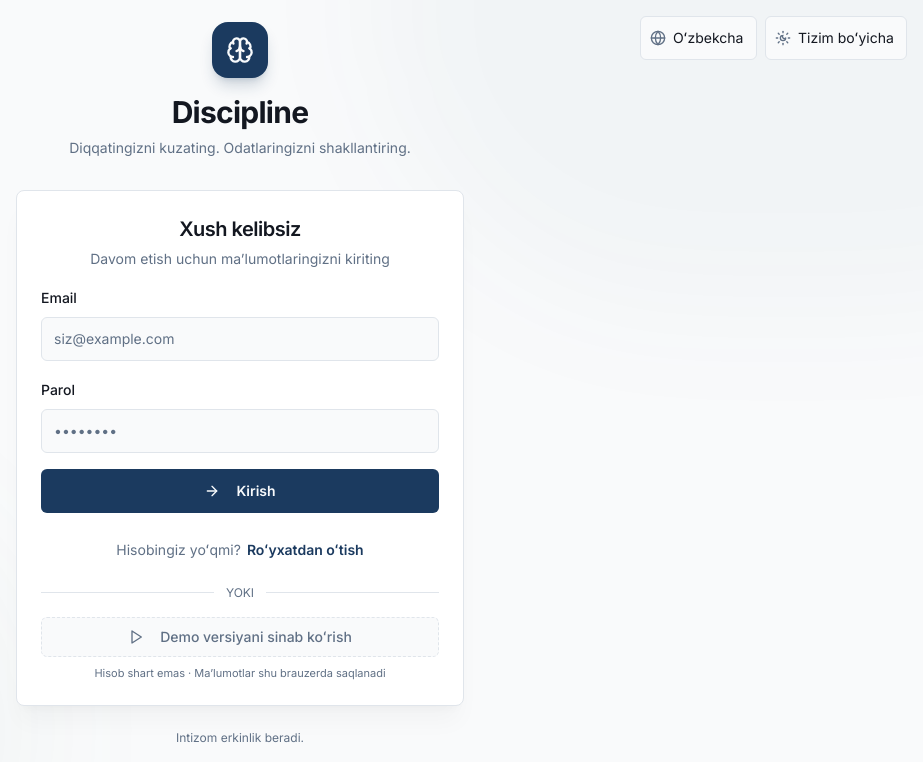
Test: language switcher › starts in Uzbek with F12A on and switches the whole page
Expected: the button "Kirish" is shown, [41,469,439,513]
Select "Русский" in the dropdown named "Til" at [698, 38], box [640,16,757,60]
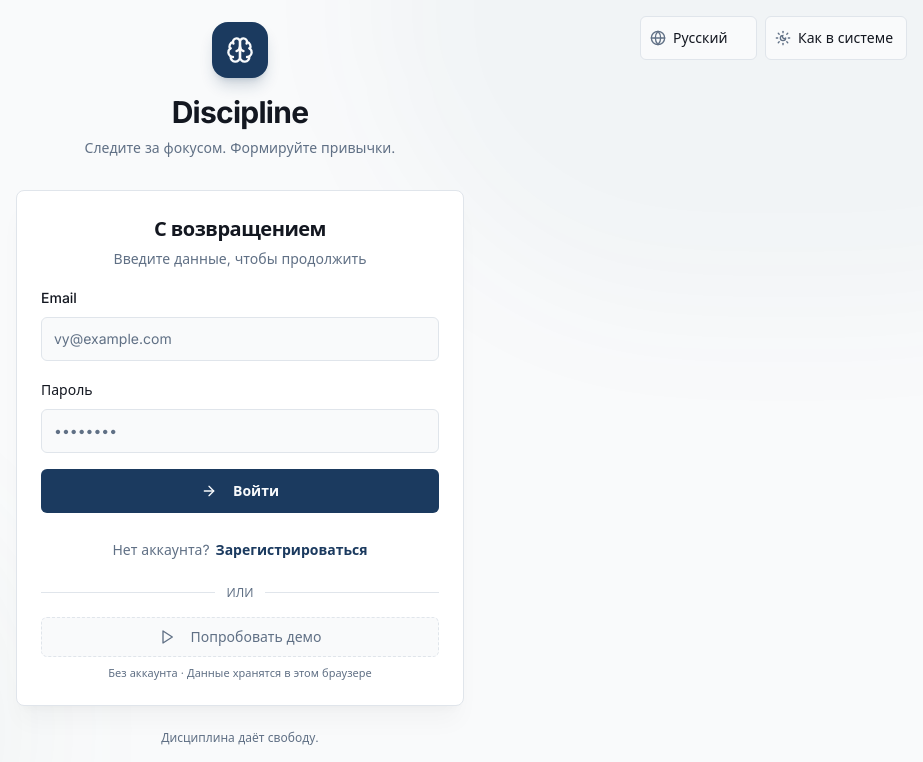
Expected: the password field labelled "Пароль" is shown, [41,409,439,453]
Expected: the button "Войти" is shown, [41,469,439,513]
Select "English" in the dropdown named "Язык" at [698, 38], box [640,16,757,60]
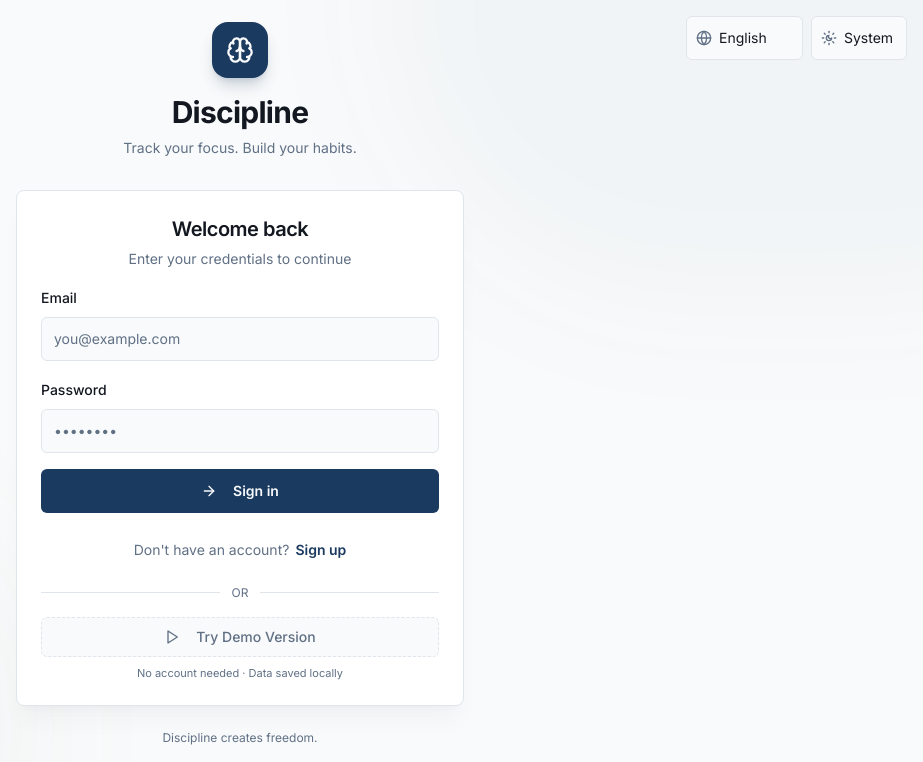
Expected: the button "Sign in" is shown, [41,469,439,513]
